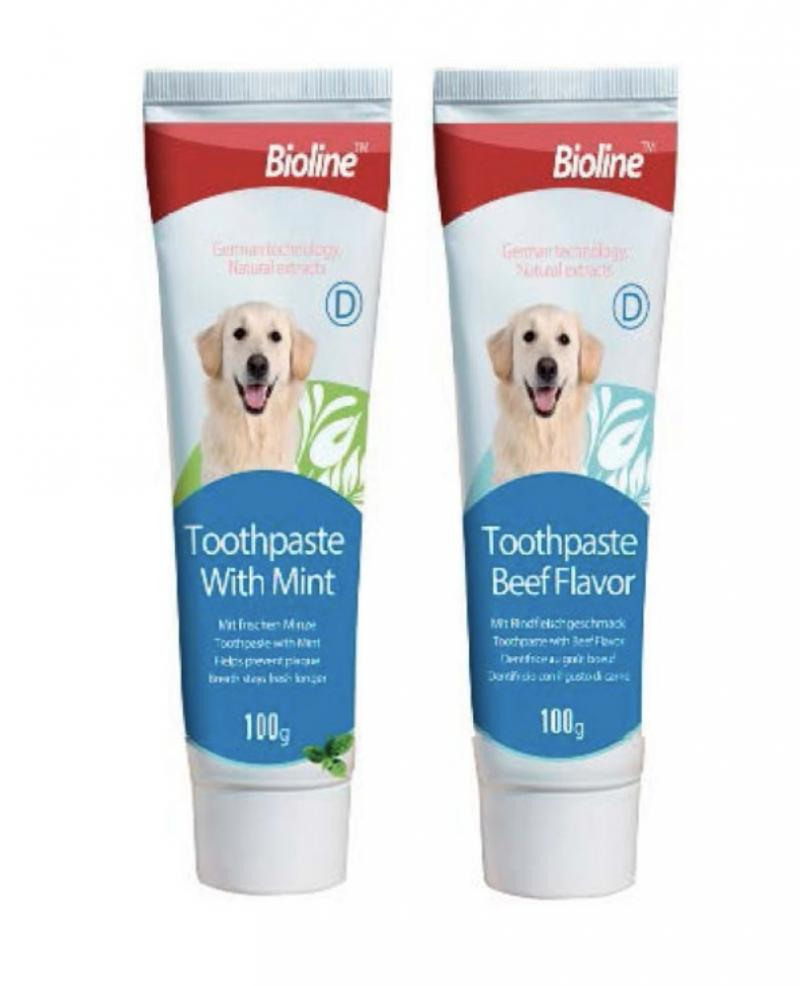toothpaste: (129, 48, 398, 905), (419, 46, 673, 928)
